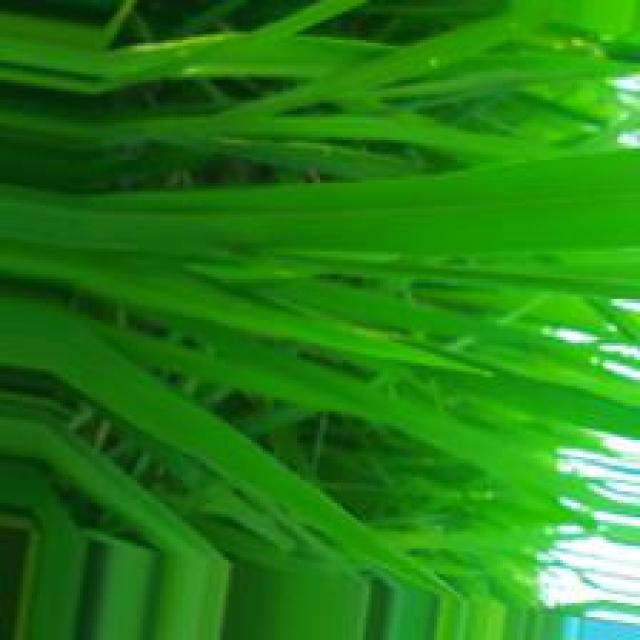HealthyLeaf: (161, 149, 640, 257), (138, 382, 395, 564)
